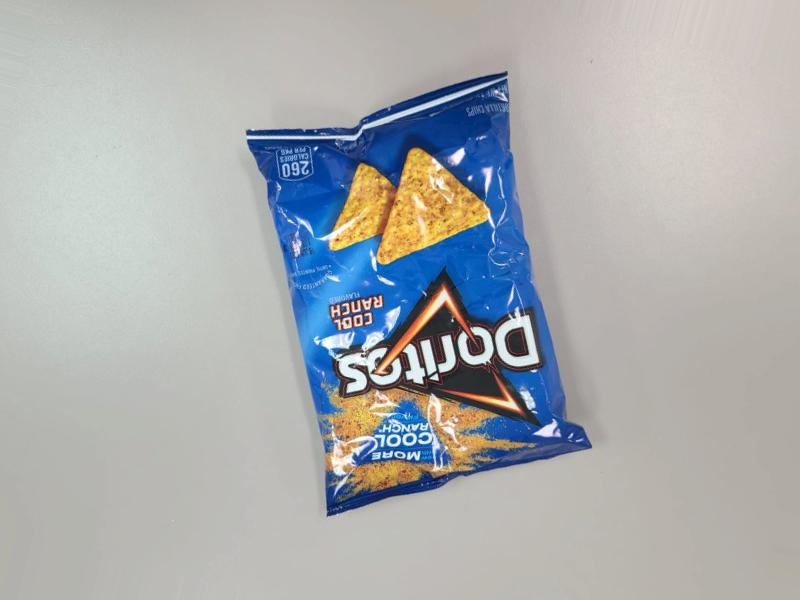doritos: (300, 118, 599, 505)
